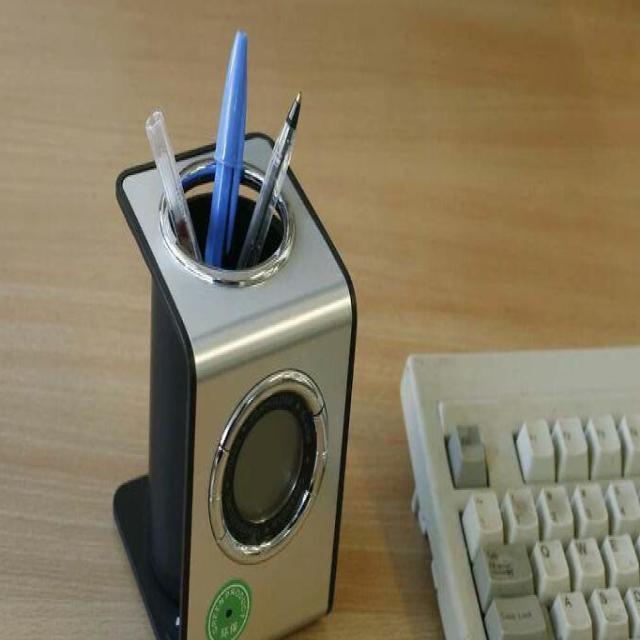hidden camera: (218, 596, 239, 639)
